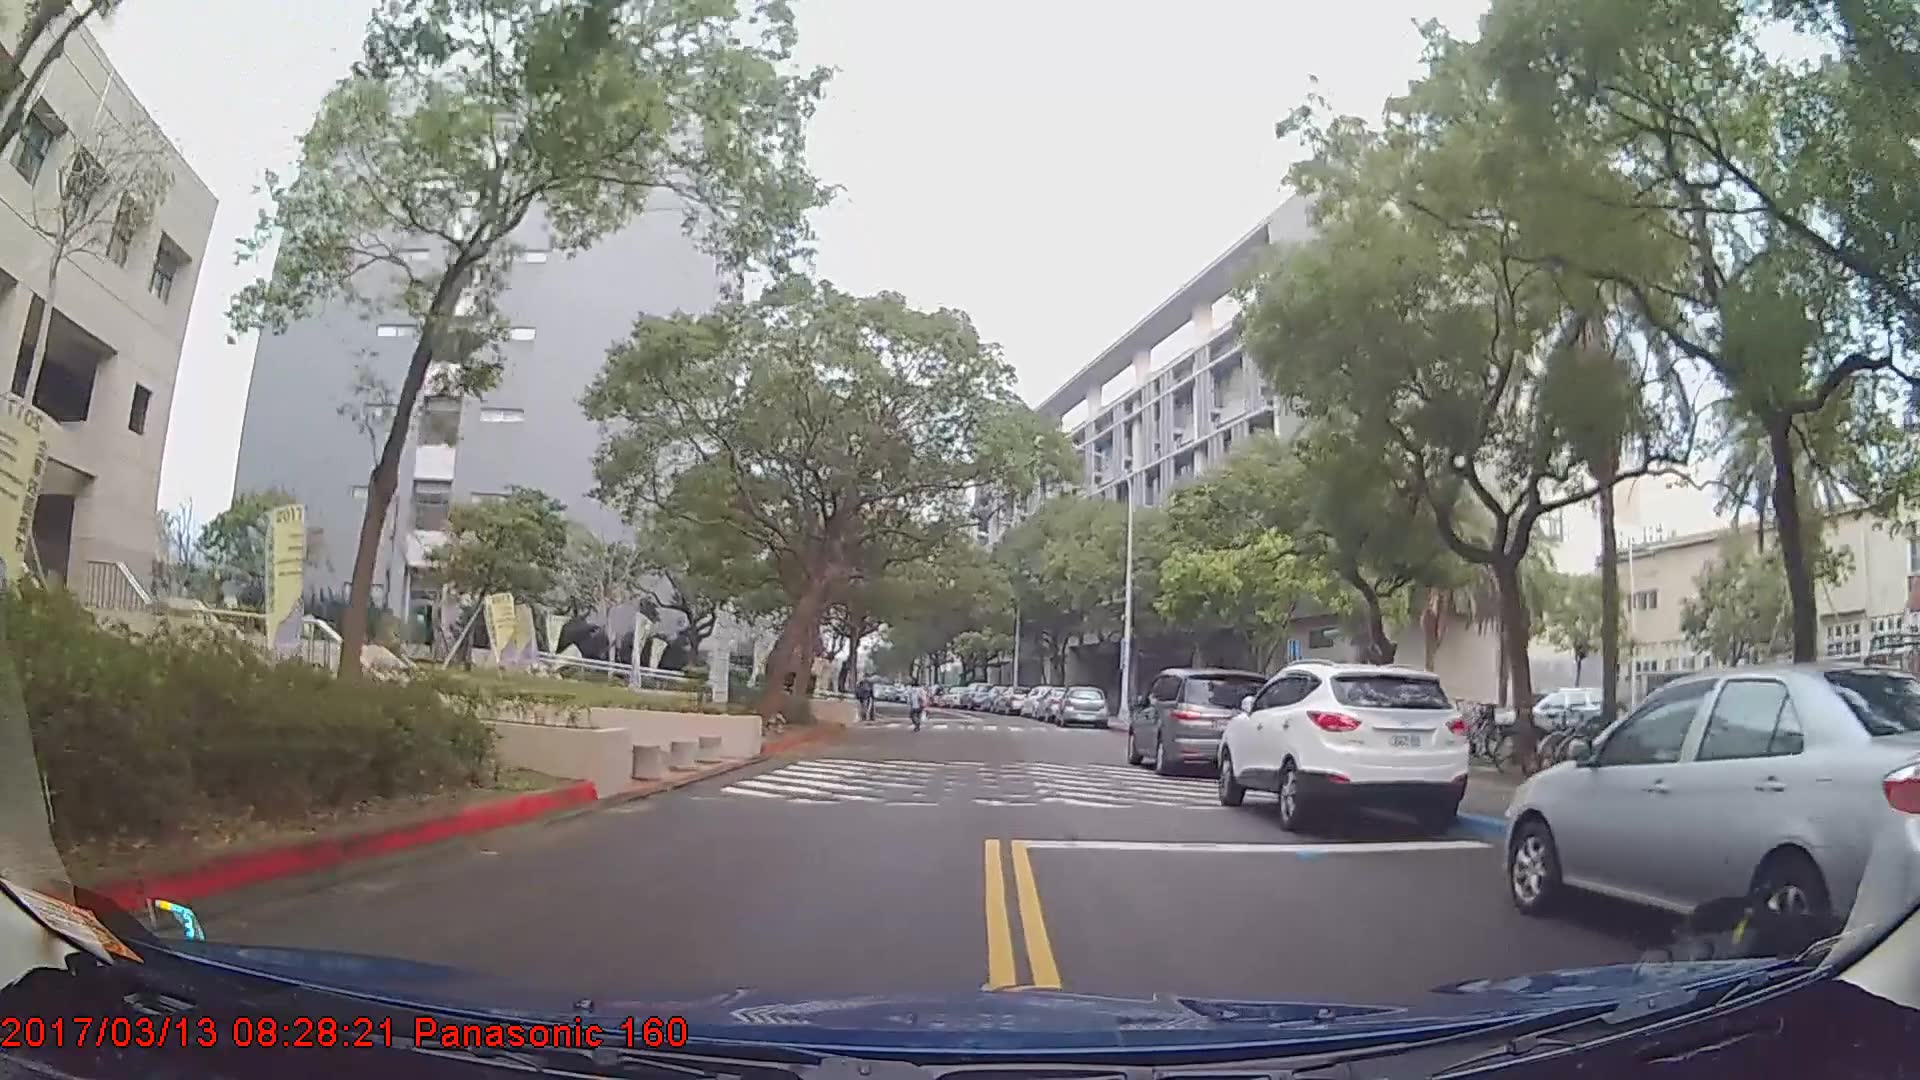pedestrian: (900, 679, 927, 733), (857, 673, 879, 724)
vehicle: (1507, 659, 1920, 956), (1217, 659, 1472, 835), (1125, 666, 1278, 773), (1057, 680, 1108, 728), (956, 679, 991, 709)
